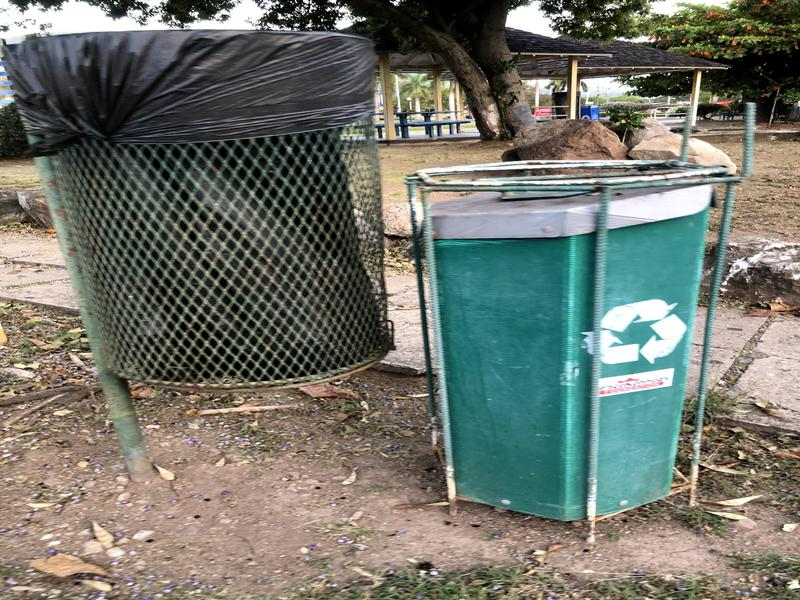18.0053245_-76.7486424_recyclebin: (399, 152, 736, 532)
